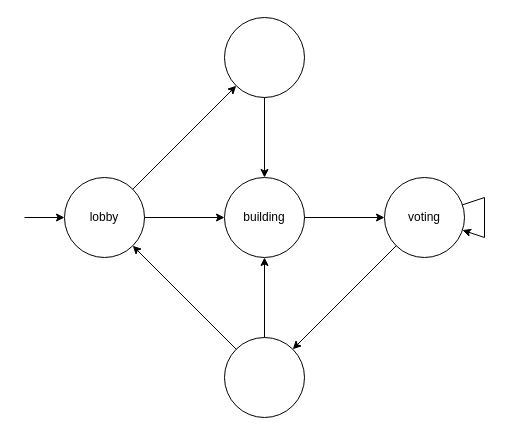
This 510x435 diagram has some shape labels left out. The box of each missing label's shape, as (x1, y1, x2, y2) in pixels:
subject vote: (224, 16, 304, 98)
winning: (224, 336, 304, 418)
